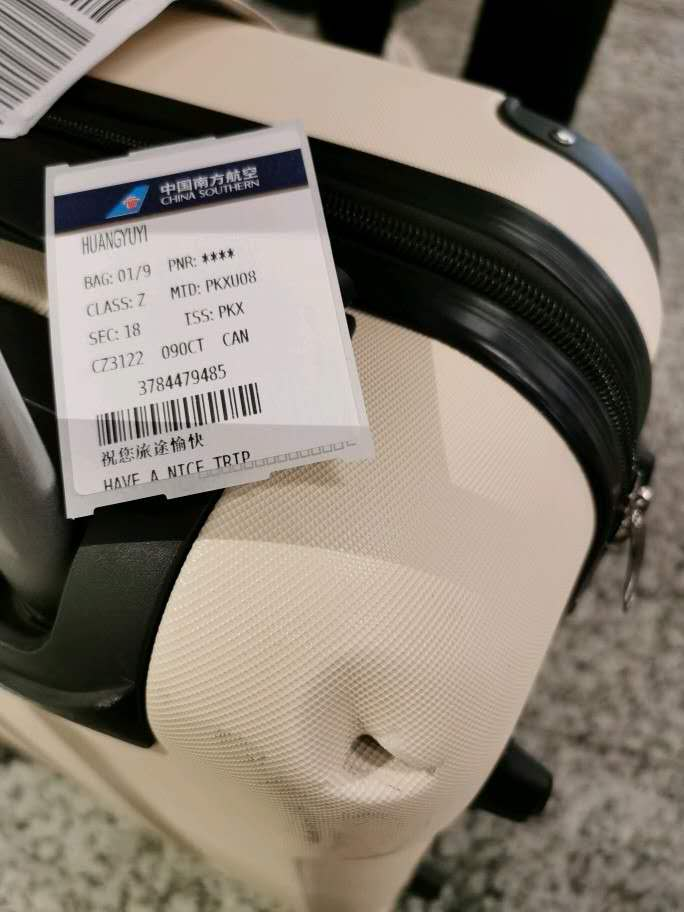rupture: (295, 654, 450, 805)
